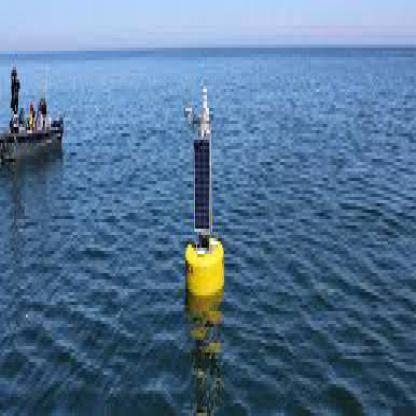buoy: (180, 67, 231, 314)
